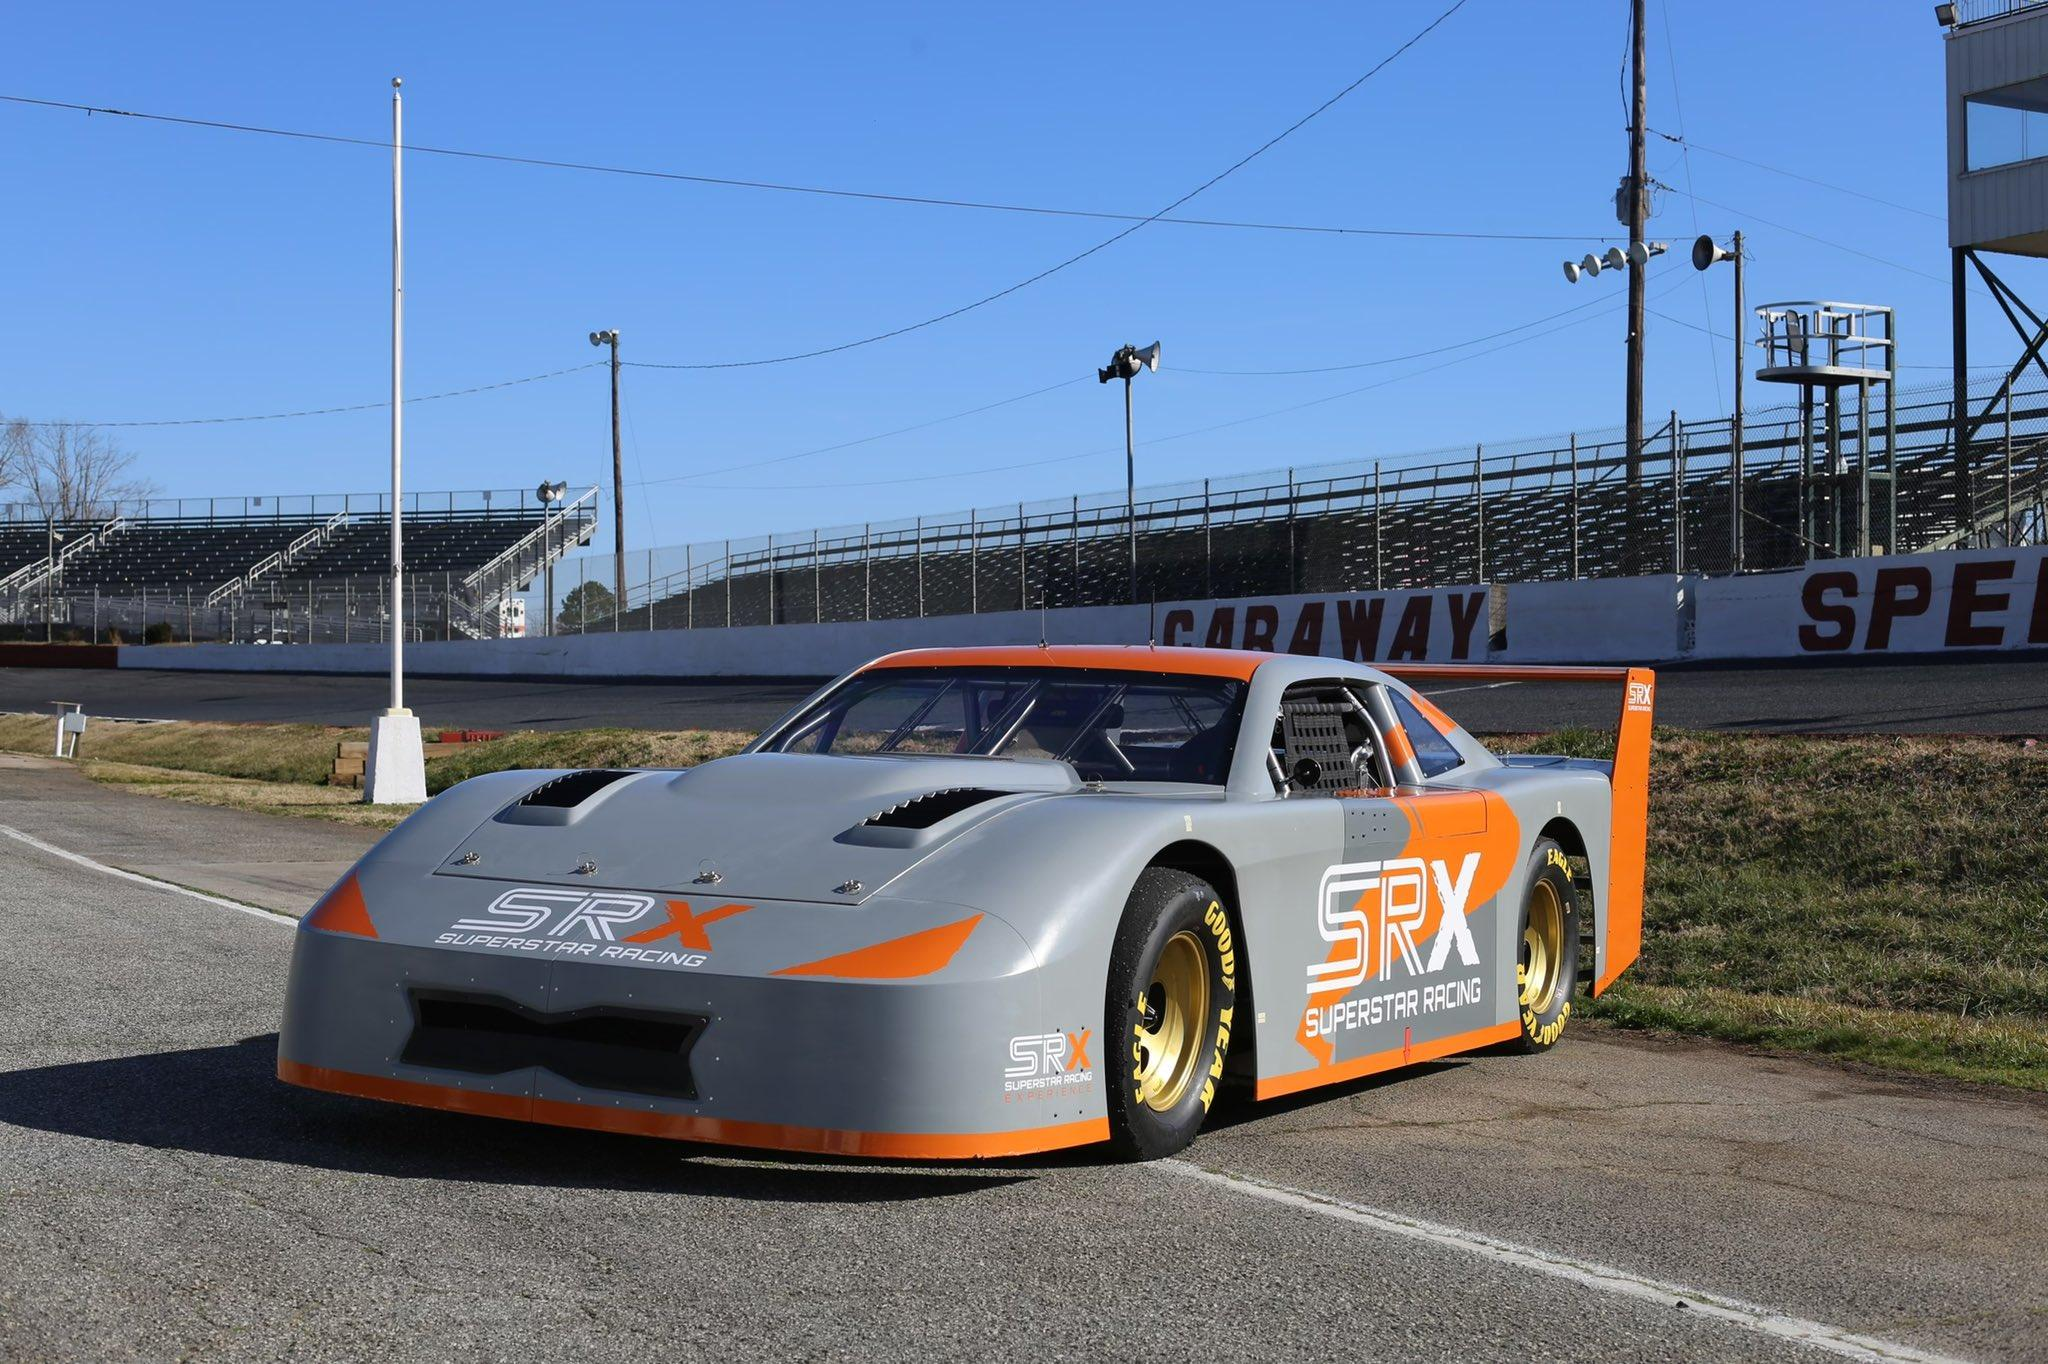small: (272, 638, 1655, 1171)
